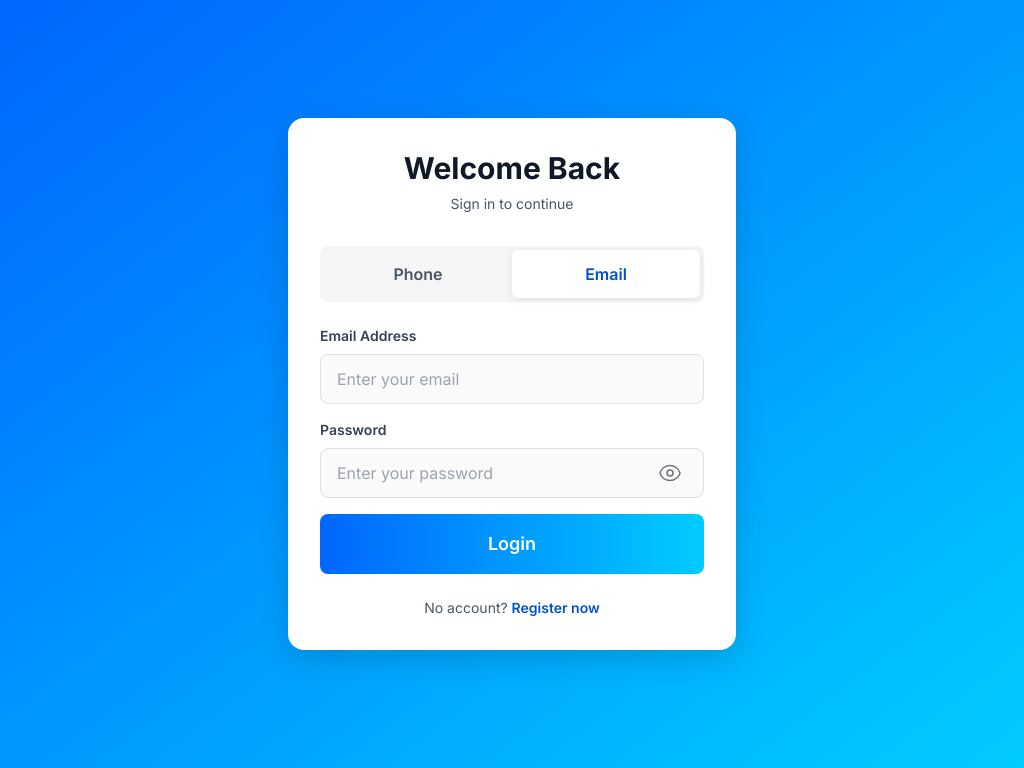
LoginPage › switches between phone and email tabs
// Click phone tab
Click the button "Phone" at (418, 274), box [324,250,512,298]
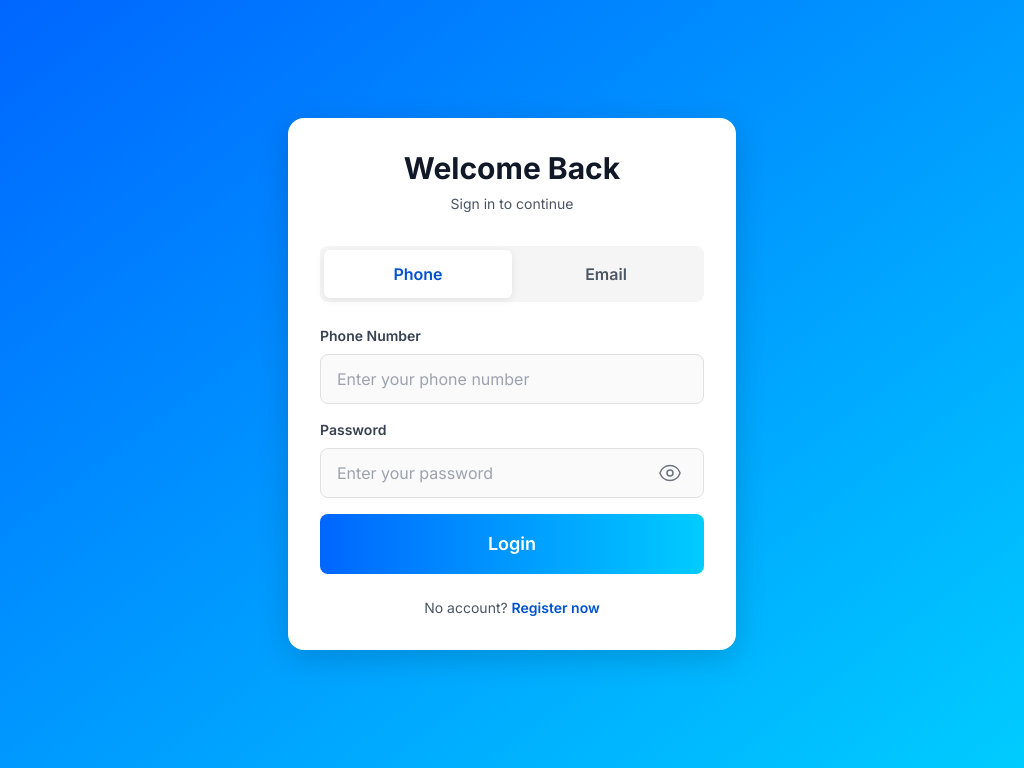
Expected: the field with placeholder "Enter your phone number" is shown, [320,354,704,404]
// Click email tab
Click the button "Email" at (606, 274), box [512,250,700,298]
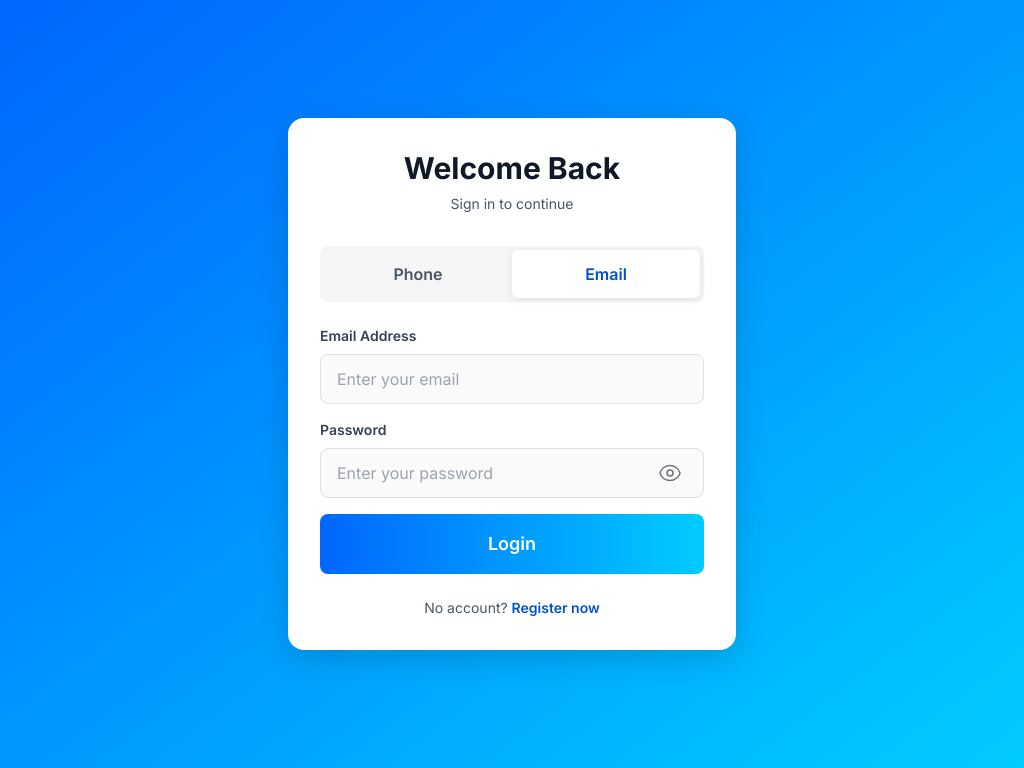
Expected: the field with placeholder "Enter your email" is shown, [320,354,704,404]
